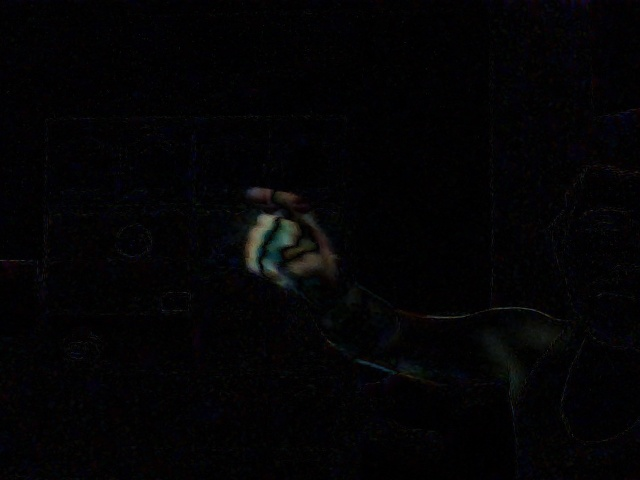hand_po: (233, 175, 342, 302)
